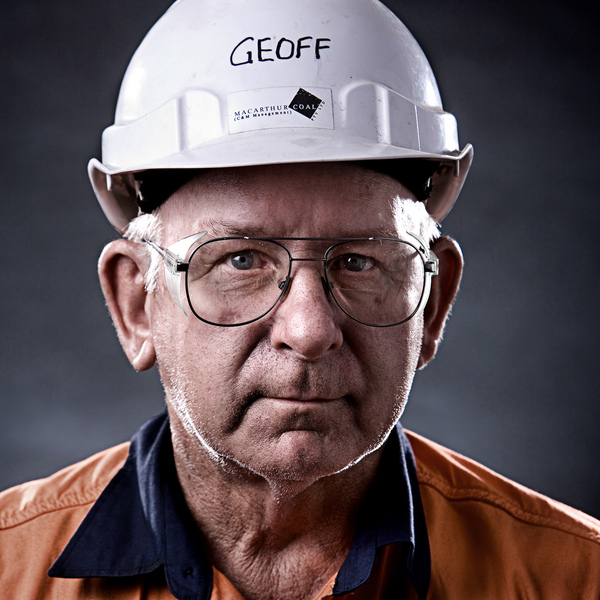helmet: (105, 1, 464, 466)
